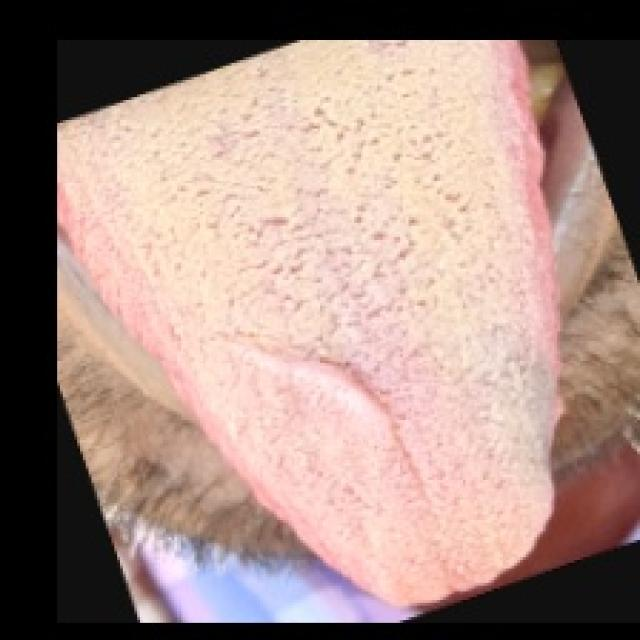leukoplakia-like-detection: (63, 40, 547, 602)
processing_area: (58, 40, 563, 614)
